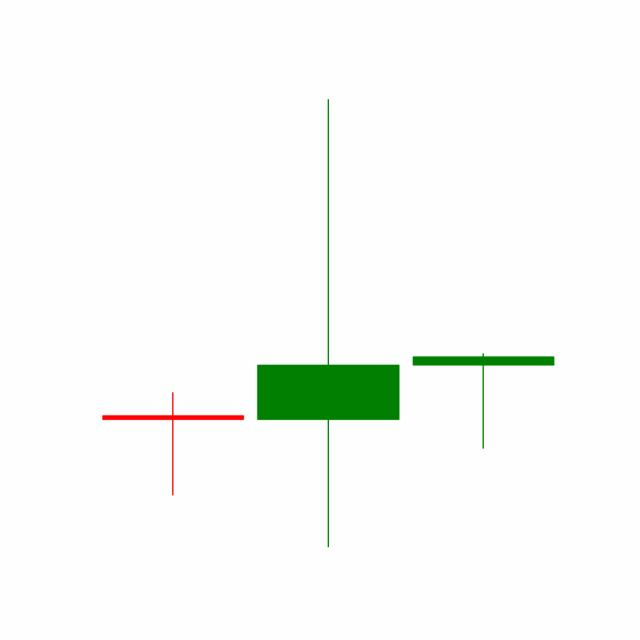Dragonfly Doji: (405, 351, 561, 450)
